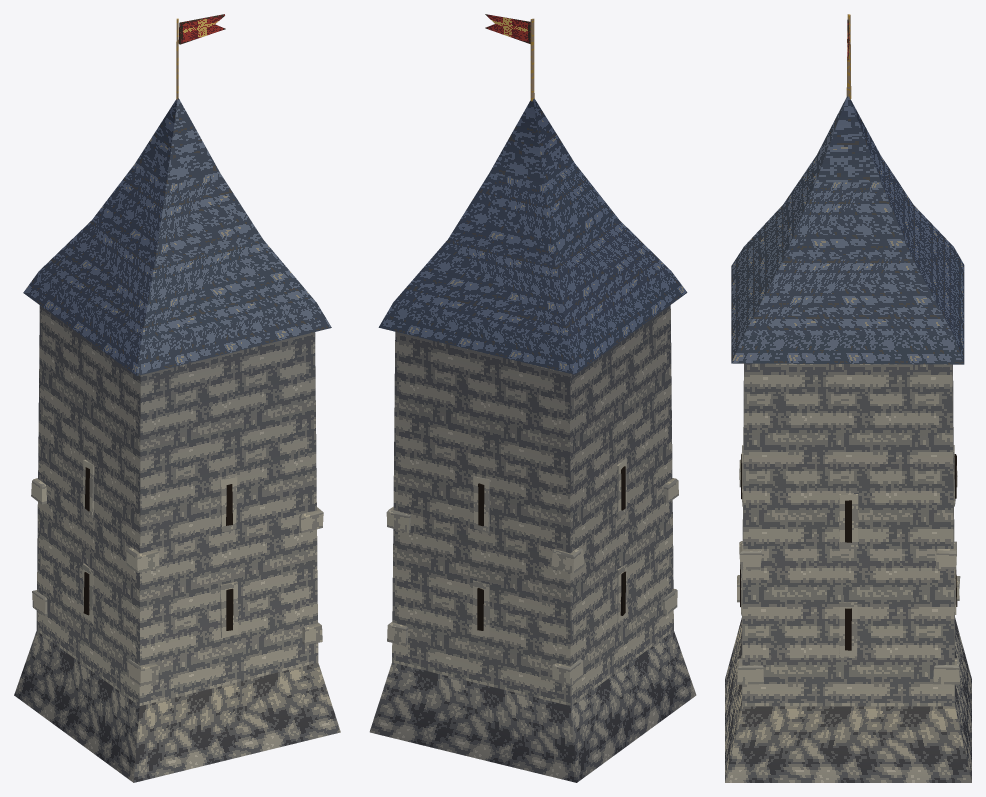
File: cst.tower_square__roofed.glb
The picture shows the model from 3 angles, left to right: view 1: azimuth 30°, elevation 25°; view 2: azimuth 150°, elevation 25°; view 3: azimuth 270°, elevation 25°; orthographic projection. The views are drawn at different scales.
Parts seen in each view (by area): view 1: kit_shaft, kit_top, kit_detail; view 2: kit_shaft, kit_top, kit_detail; view 3: kit_shaft, kit_top, kit_detail.
Boxes of the visible parts, box(x1,y1,x2,y2) form: kit_shaft: box(14, 305, 340, 782); kit_top: box(23, 98, 331, 375); kit_detail: box(31, 14, 323, 685); kit_shaft: box(369, 305, 696, 782); kit_top: box(378, 99, 687, 374); kit_detail: box(386, 14, 678, 685); kit_shaft: box(725, 363, 971, 782); kit_top: box(731, 96, 964, 364); kit_detail: box(737, 14, 960, 684).
Bounding box in the file's own units: 5.8 × 18.58 × 5.8.
Materials: 7 (7 with a texture image).
